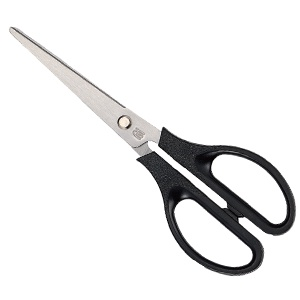scissors: (7, 24, 300, 285)
